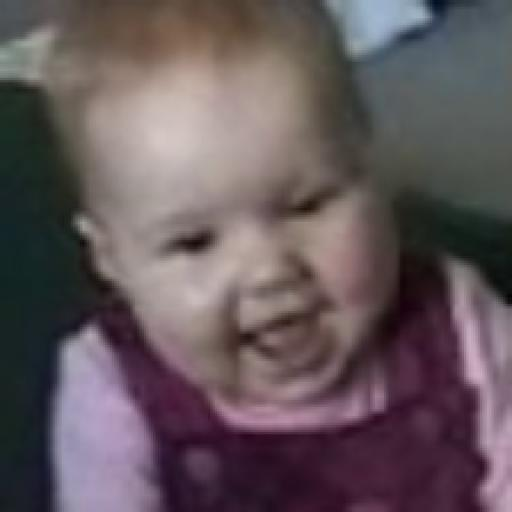Autism: (60, 0, 448, 421)
